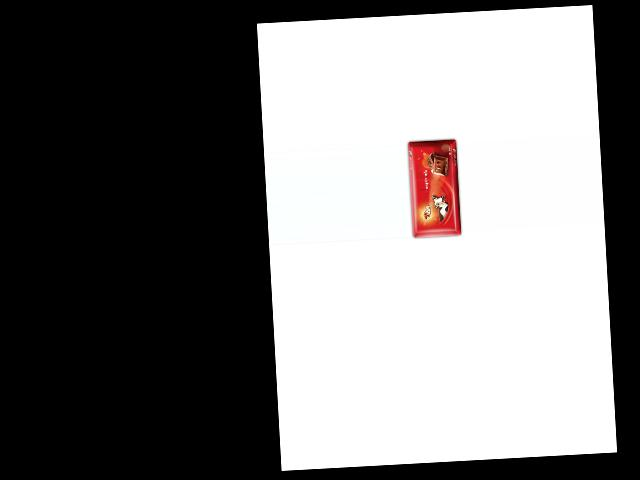chocolate: (407, 137, 465, 243)
